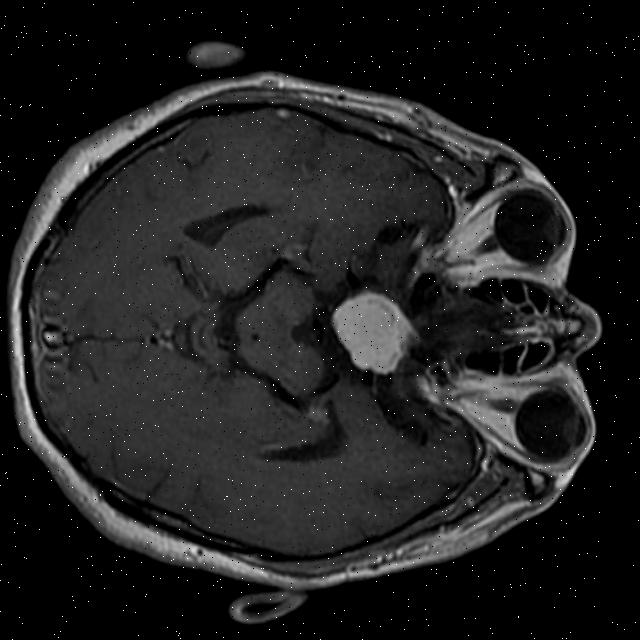Meningioma: (328, 286, 424, 377)
